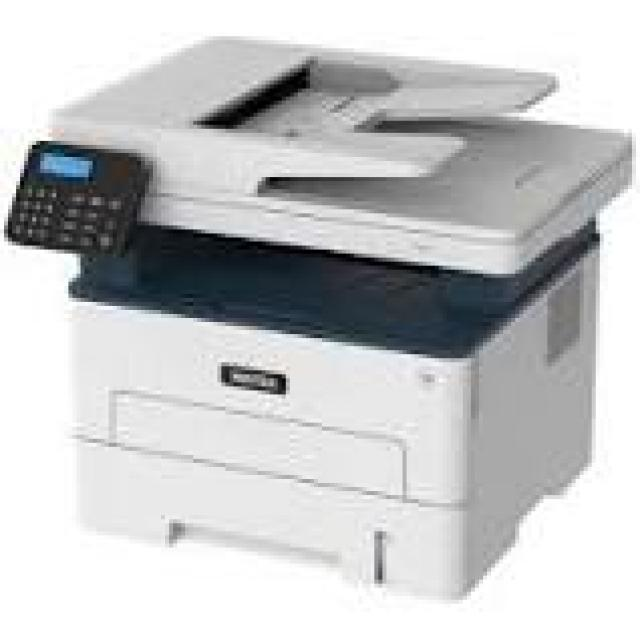printer: (2, 0, 637, 640)
